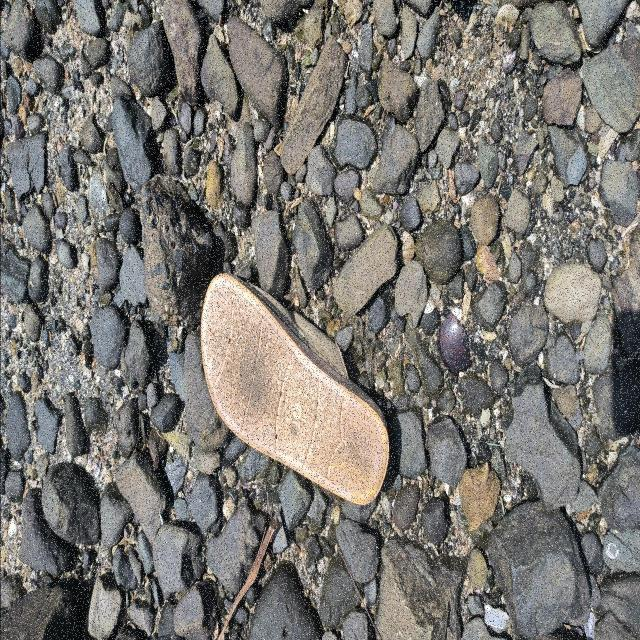rubber_waste: (201, 274, 389, 509)
